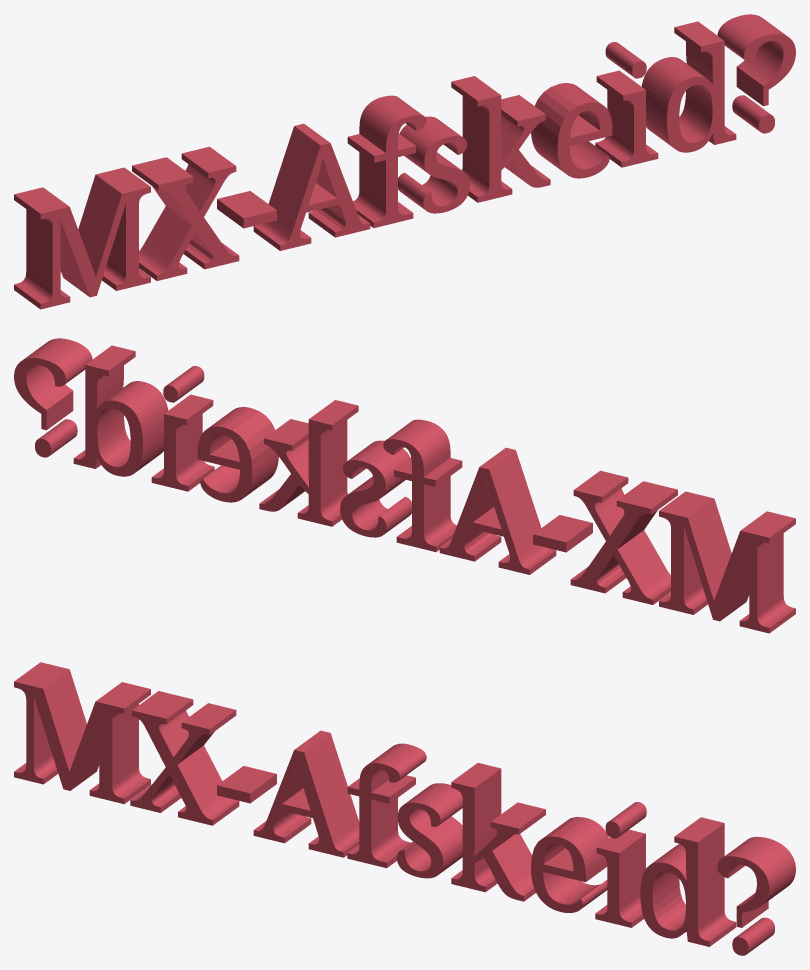
The model's file is Mx-afskeid.glb.
The picture shows the model from 3 angles, top to bottom: view 1: azimuth 30°, elevation 25°; view 2: azimuth 150°, elevation 25°; view 3: azimuth 330°, elevation 25°; orthographic projection.
Visible parts, largest first — view 1: Mesh_Mesh_head_geo.001_lambert2SG.001; view 2: Mesh_Mesh_head_geo.001_lambert2SG.001; view 3: Mesh_Mesh_head_geo.001_lambert2SG.001.
Boxes of the visible parts, x1=… form: Mesh_Mesh_head_geo.001_lambert2SG.001: x1=14, y1=14, x2=795, y2=309; Mesh_Mesh_head_geo.001_lambert2SG.001: x1=14, y1=338, x2=795, y2=633; Mesh_Mesh_head_geo.001_lambert2SG.001: x1=14, y1=662, x2=795, y2=955.
Size of the model in its own units: 164 by 21.68 by 10.
